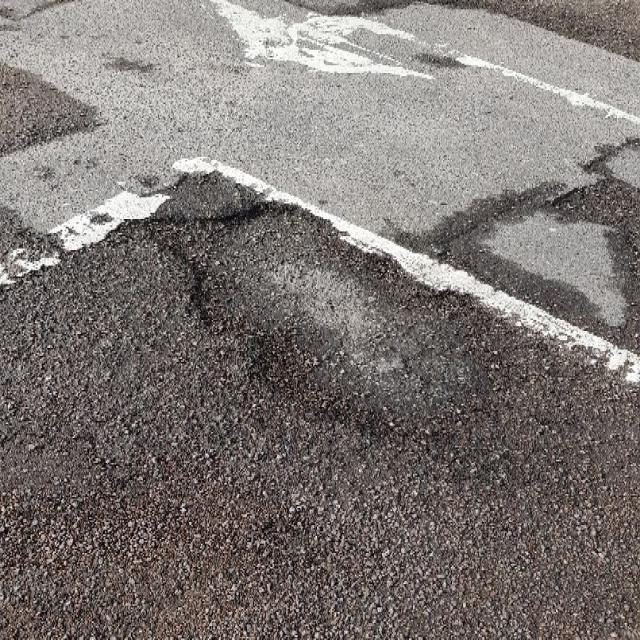Pothole: (143, 186, 490, 457)
